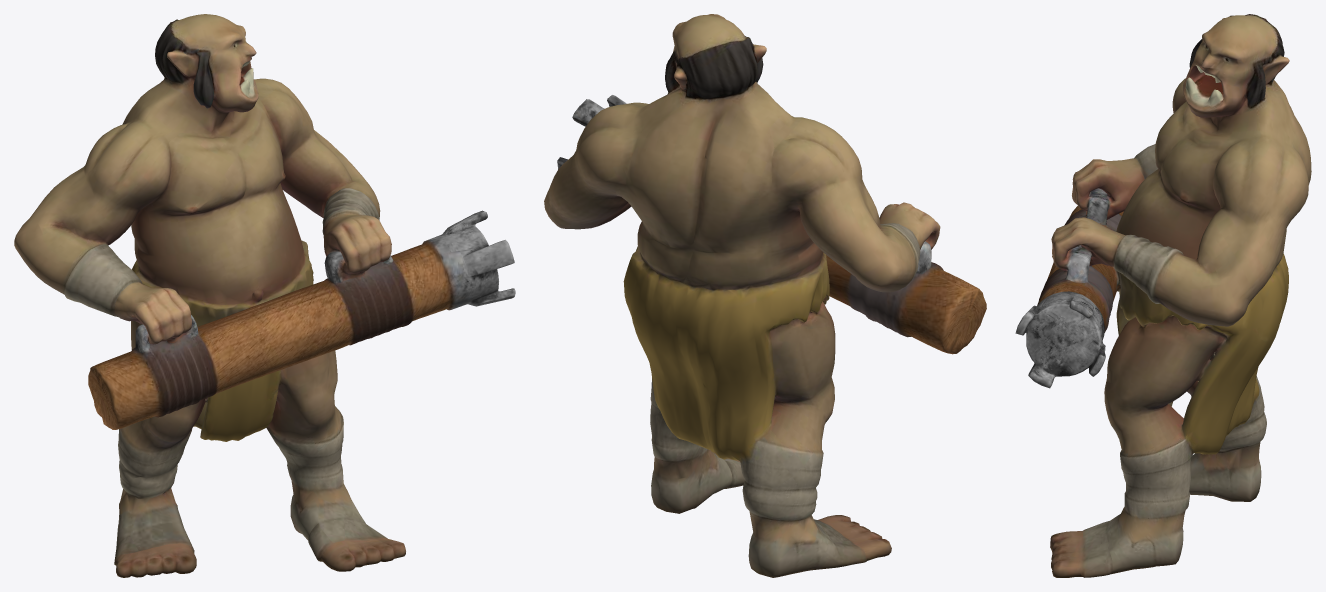
Rendered from MZ4250 - Ogre Battering Ram.glb.
3 views of the same model, side by side, from view 1: azimuth 30°, elevation 25°; view 2: azimuth 150°, elevation 25°; view 3: azimuth 270°, elevation 25° (orthographic). The views are drawn at different scales.
Visible parts, largest first — view 1: Ogre Battering Ram_low.002; view 2: Ogre Battering Ram_low.002; view 3: Ogre Battering Ram_low.002.
Boxes of the visible parts, x1,y1,x2,y2 form: Ogre Battering Ram_low.002: (14, 14, 515, 577); Ogre Battering Ram_low.002: (544, 14, 986, 577); Ogre Battering Ram_low.002: (1015, 14, 1311, 577).
Bounding box in the file's own units: 4.74 × 5.73 × 3.05.
Materials: 1 (1 with a texture image).
